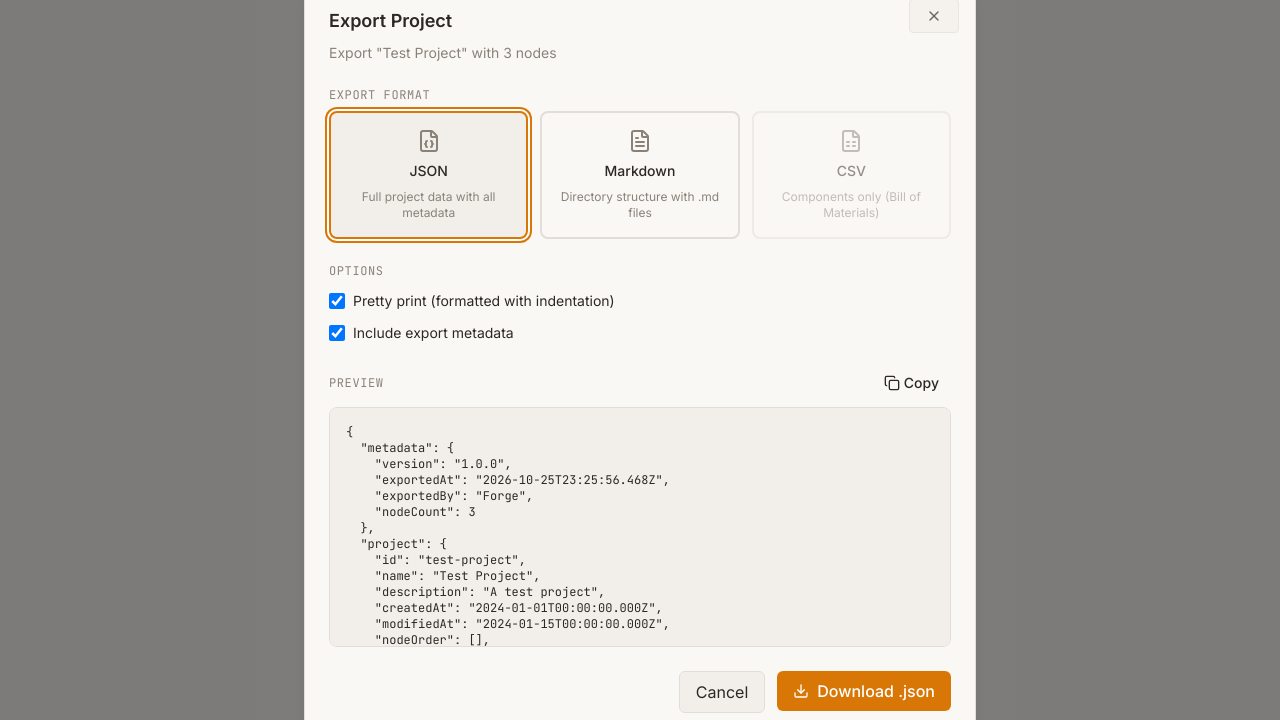
Test case: ExportDialog › preview › shows file list preview when Markdown format selected
Click the radio button labelled "Markdown Directory structure with .md files". click: (640, 175)
box: x1=540 y1=111 x2=740 y2=239
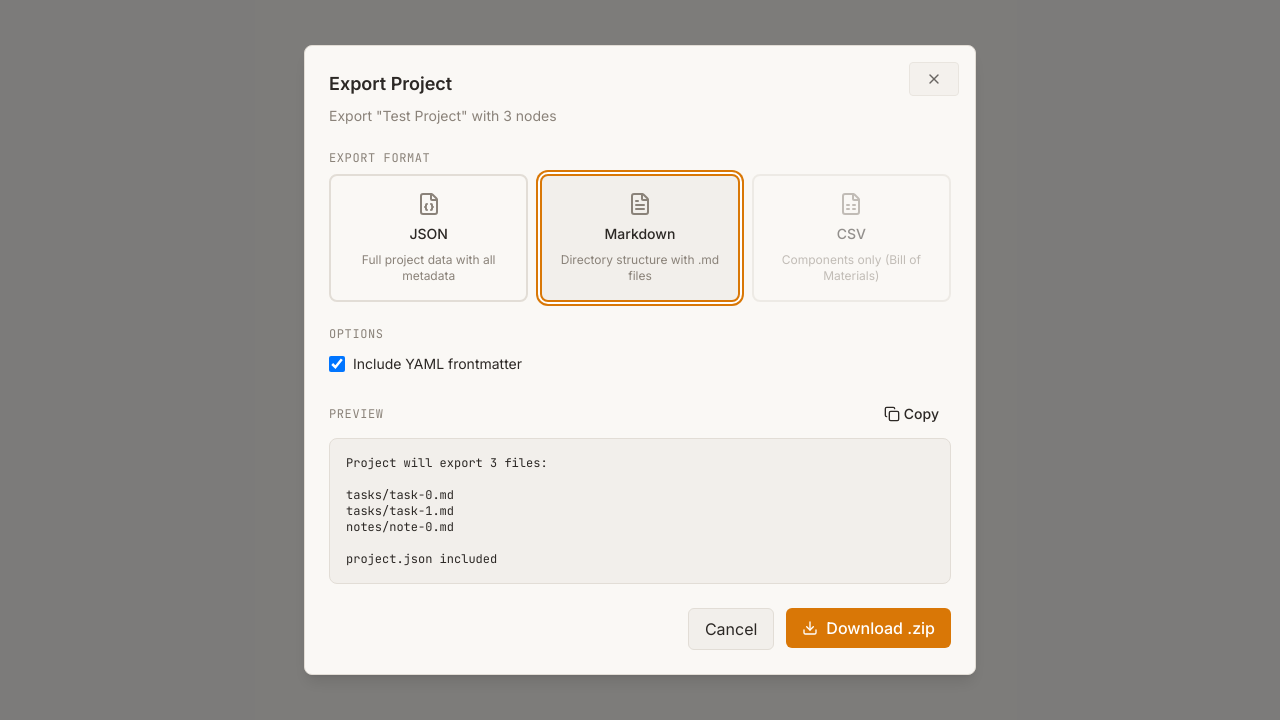
Check: the element named "Export preview" shows "files", box x1=346 y1=455 x2=548 y2=567
Check: the element named "Export preview" shows "project.json", box x1=346 y1=455 x2=548 y2=567
